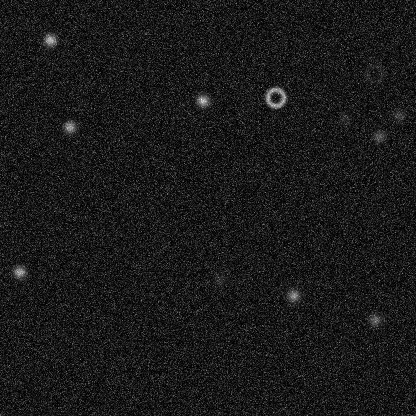Ring: (263, 85, 287, 109), (362, 61, 386, 85)
Spot: (212, 270, 228, 286), (370, 128, 386, 144), (391, 107, 407, 123), (337, 110, 353, 126), (61, 118, 77, 134), (11, 264, 27, 280), (285, 287, 301, 303), (366, 311, 382, 327), (41, 32, 57, 48), (194, 92, 210, 108)
